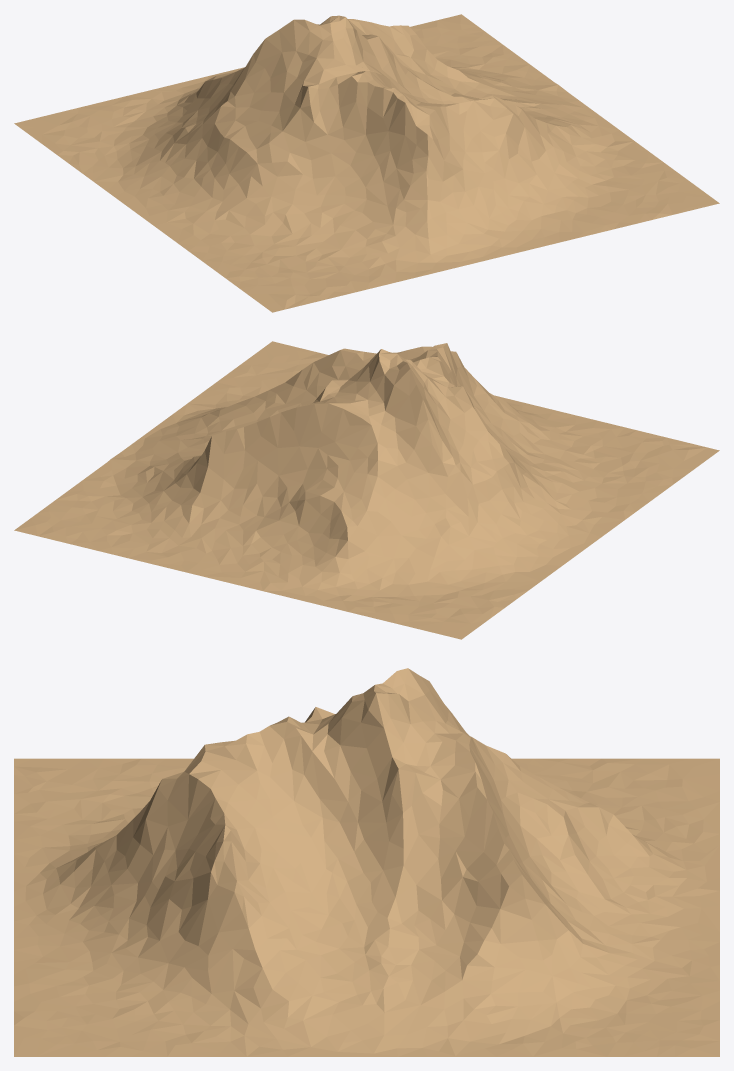
The model's file is MT_Terrain_L_f_03.fbx.
3 renders of one model, top to bottom at view 1: azimuth 30°, elevation 25°; view 2: azimuth 150°, elevation 25°; view 3: azimuth 270°, elevation 25°, orthographic. The views are drawn at different scales.
Parts seen in each view (by area): view 1: MT_Terrain_L_f_03; view 2: MT_Terrain_L_f_03; view 3: MT_Terrain_L_f_03.
Part boxes in pixels (x1,y1,x2,y2): MT_Terrain_L_f_03: (14, 14, 719, 312); MT_Terrain_L_f_03: (14, 341, 719, 639); MT_Terrain_L_f_03: (14, 668, 719, 1056).
Size of the model in its own units: 10000 by 3177 by 10000.
